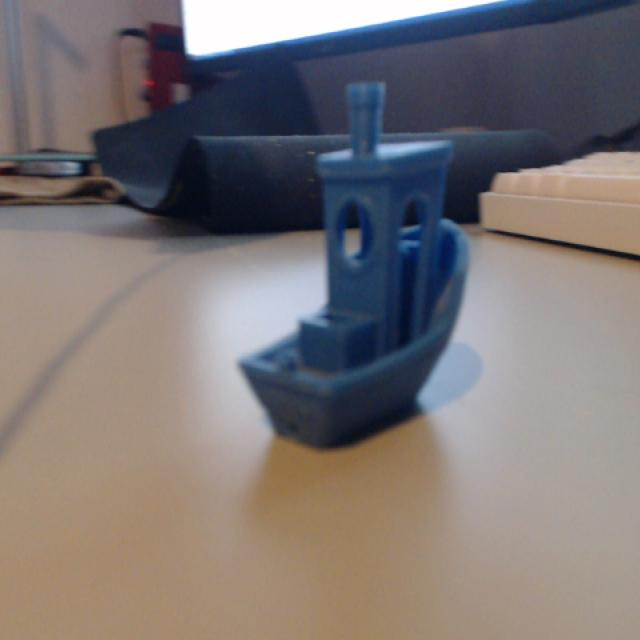benchy: (235, 77, 472, 448)
